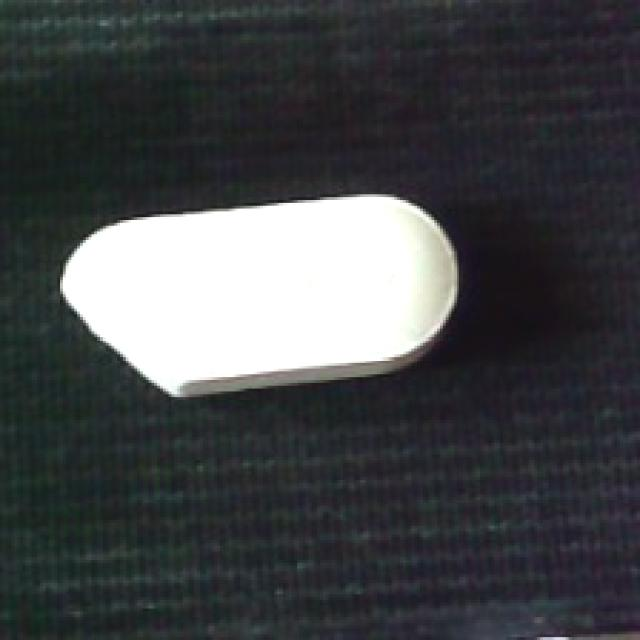defected: (57, 192, 466, 400)
